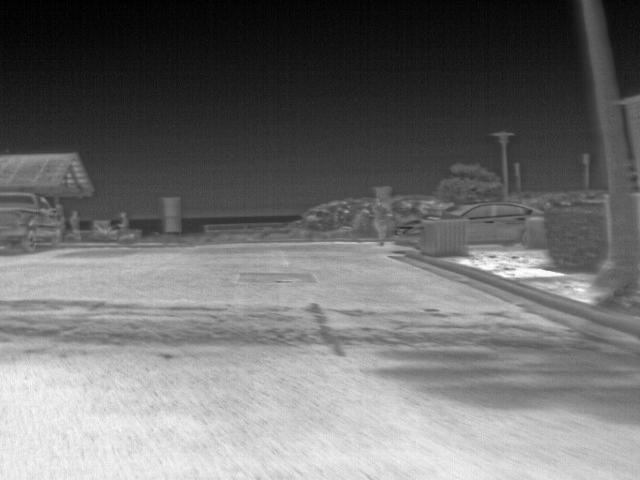car: (0, 190, 63, 253), (469, 200, 528, 244), (396, 218, 422, 250)
person: (369, 197, 395, 247), (113, 212, 129, 241), (67, 211, 81, 243)
